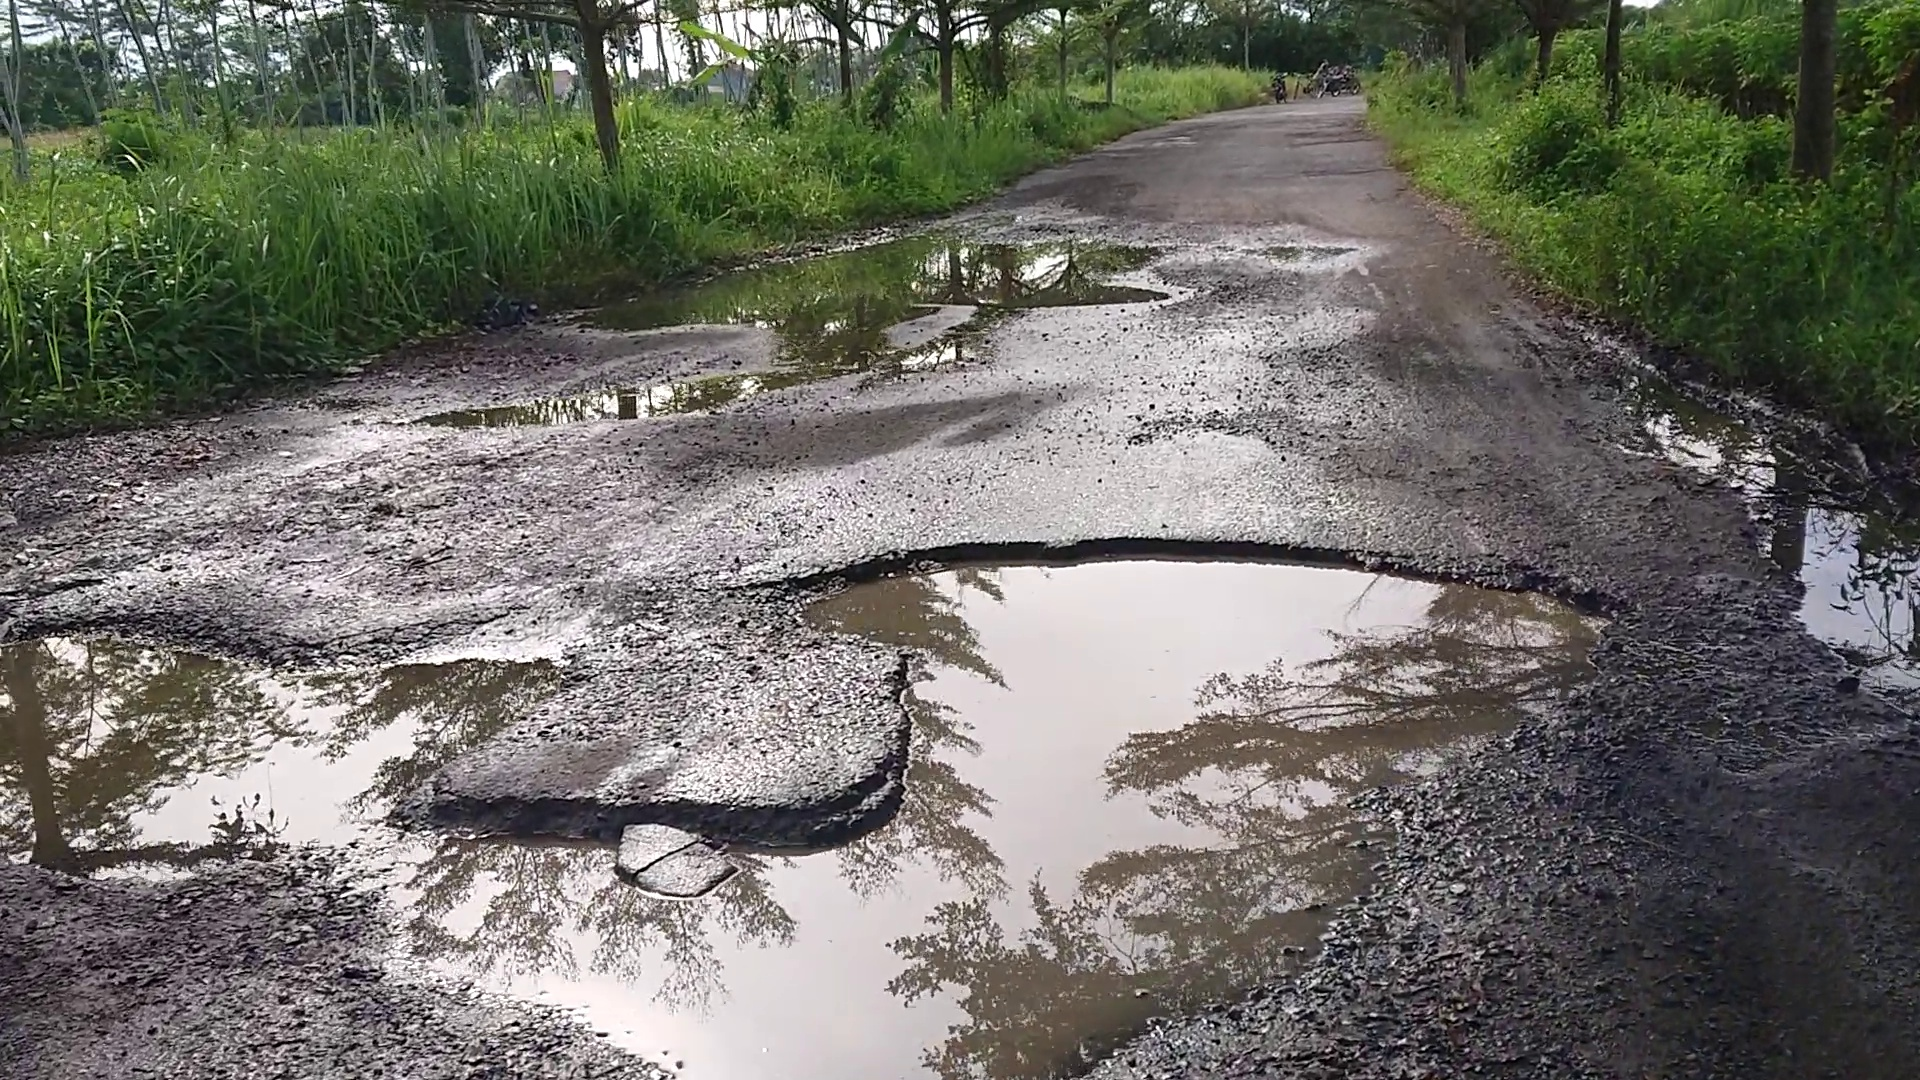Berlubang: (394, 558, 1615, 1056), (440, 219, 1207, 426), (1, 638, 386, 877)
